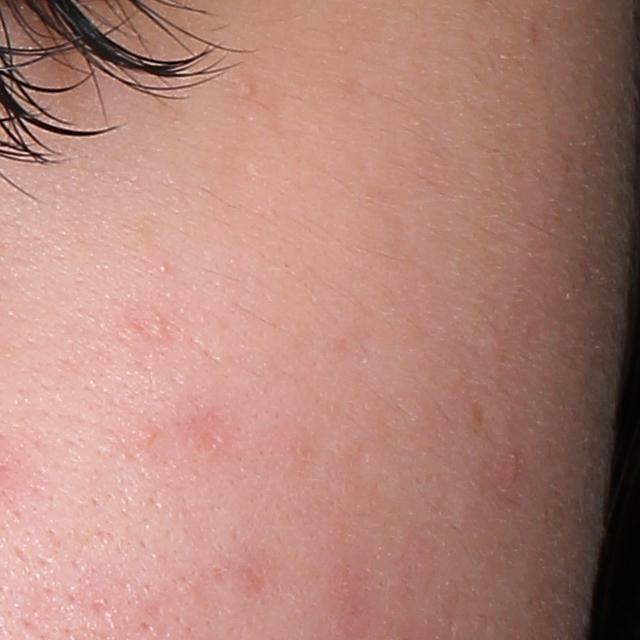comedo: (238, 81, 254, 99), (157, 263, 169, 274)
